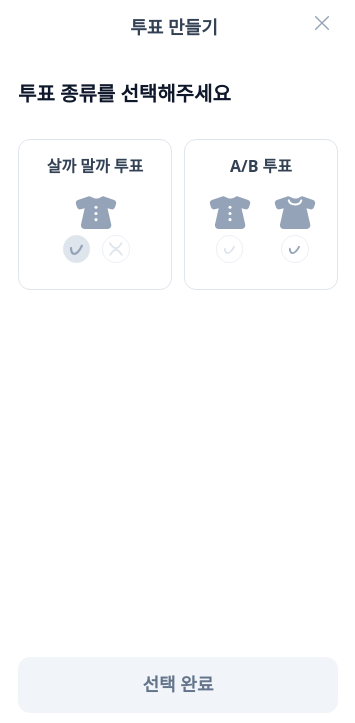
Test case: CreateVoteForm › keeps the type CTA disabled until a buy/skip type is selected
Expected: the button "선택 완료" is disabled, [18,657,338,713]
Step 1. Click the button "살까 말까 투표" → (95, 214), box [18,139,172,290]
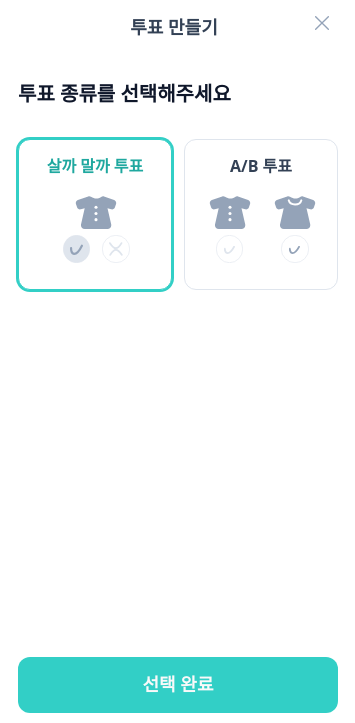
Now the button "선택 완료" is enabled
Step 2. Click the button "선택 완료" → (178, 685), box [18,657,338,713]
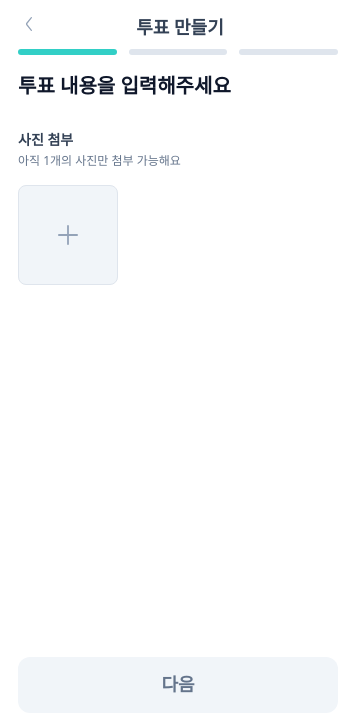
Now the text "사진 첨부" is shown, box [18,130,73,149]
